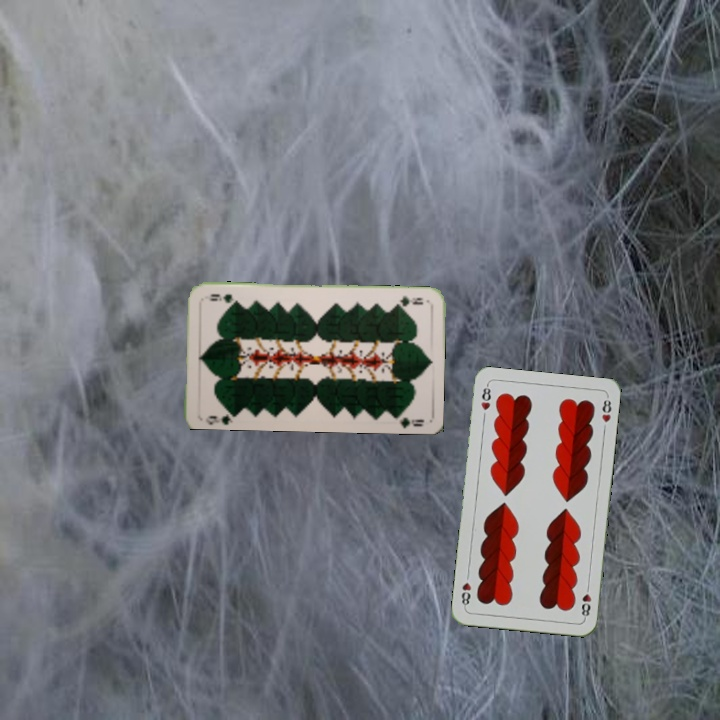G9: (202, 406, 239, 425), (391, 291, 425, 309)
H8: (577, 580, 594, 621), (477, 381, 493, 413)
